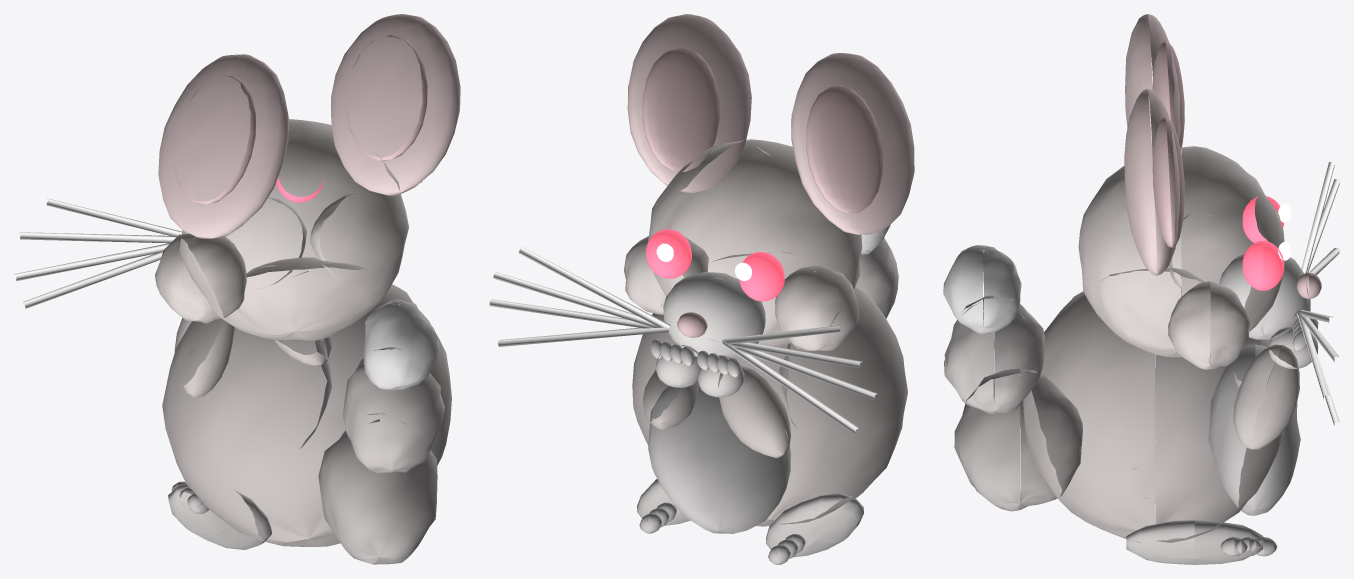
The model's file is pet_chinchilla_pink.glb.
The picture shows the model from 3 angles, left to right: view 1: azimuth 30°, elevation 25°; view 2: azimuth 150°, elevation 25°; view 3: azimuth 270°, elevation 25°; orthographic projection. The views are drawn at different scales.
Visible parts, largest first — view 1: chinchilla; view 2: chinchilla; view 3: chinchilla.
Boxes of the visible parts, bbox=[...] form: chinchilla: bbox=[14, 14, 460, 564]; chinchilla: bbox=[489, 14, 914, 564]; chinchilla: bbox=[943, 14, 1339, 564].
Size of the model in its own units: 0.8416 by 1 by 0.7516.
